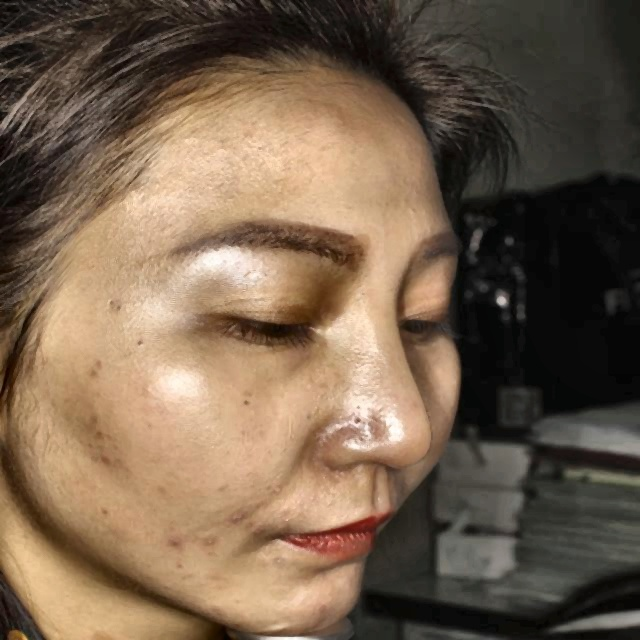pustule: (158, 527, 182, 563), (204, 591, 232, 621), (82, 411, 108, 434), (84, 358, 107, 382), (223, 503, 246, 526), (309, 596, 330, 620), (95, 449, 123, 465)
